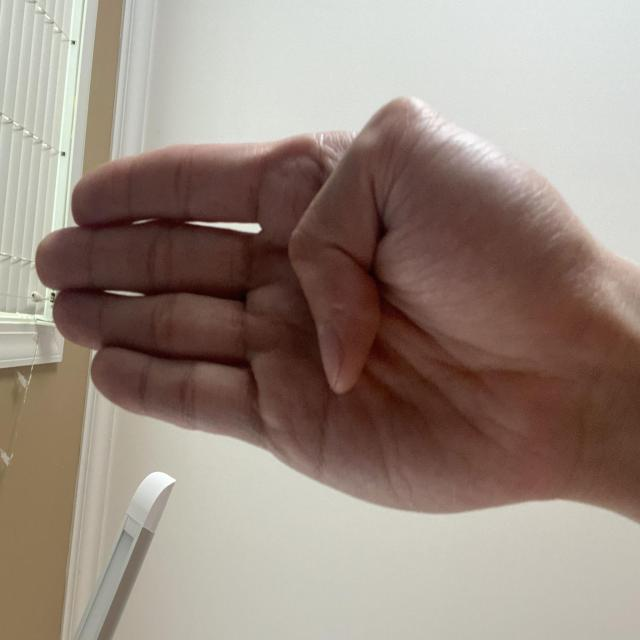B: (85, 38, 419, 640)
